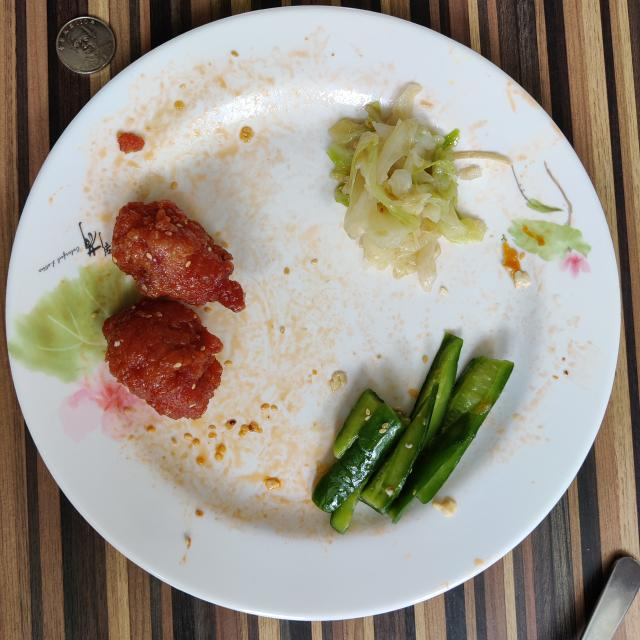cabbage: (328, 84, 486, 291)
coin: (56, 16, 115, 74)
cucumber: (311, 332, 514, 532)
